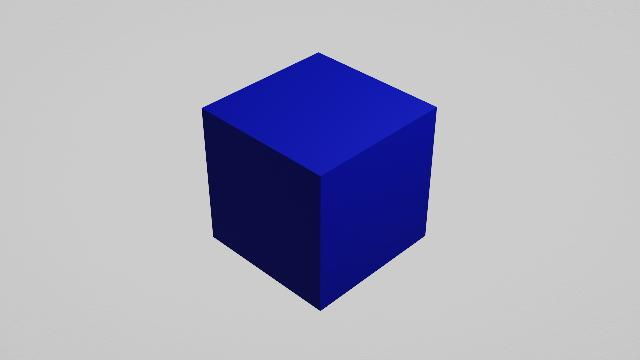Cube: (192, 46, 446, 322)
